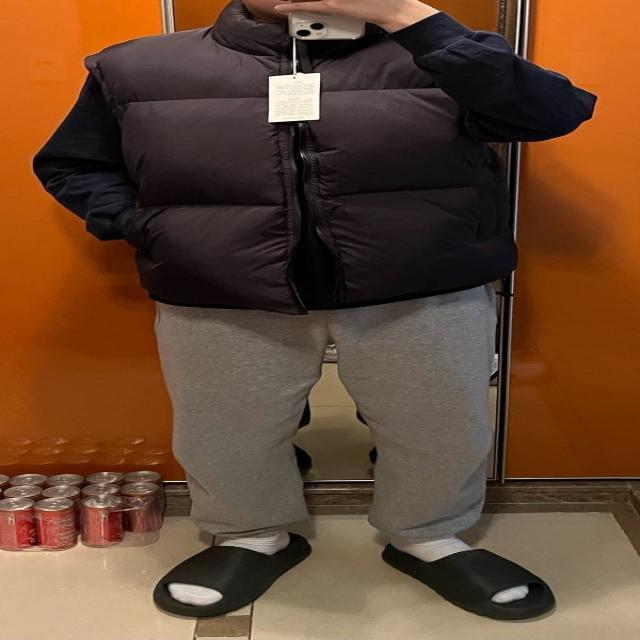padding: (94, 1, 520, 308)
trainingpants: (160, 282, 499, 542)
